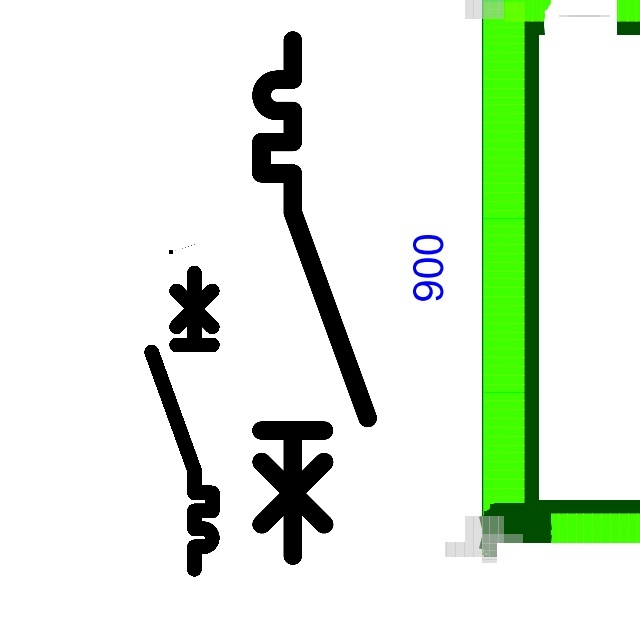interruptor_termomagnetico: (248, 27, 380, 569), (144, 265, 220, 576)
